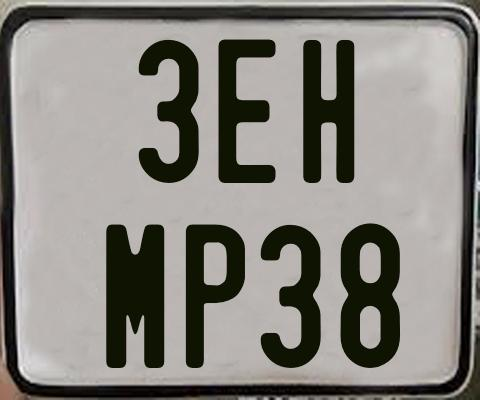3: (137, 40, 202, 184), (258, 222, 319, 366)
8: (339, 221, 405, 366)
E: (217, 38, 275, 185)
H: (303, 37, 359, 186)
M: (106, 221, 164, 368)
P: (183, 222, 244, 371)
